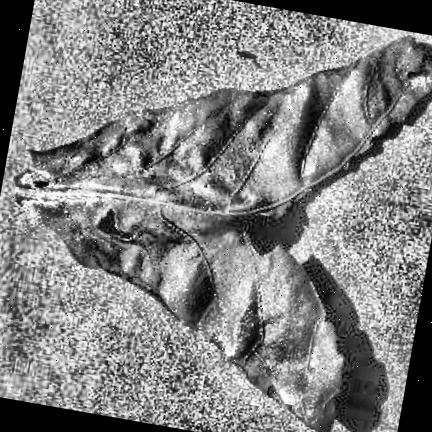leaf: (16, 37, 432, 430)
